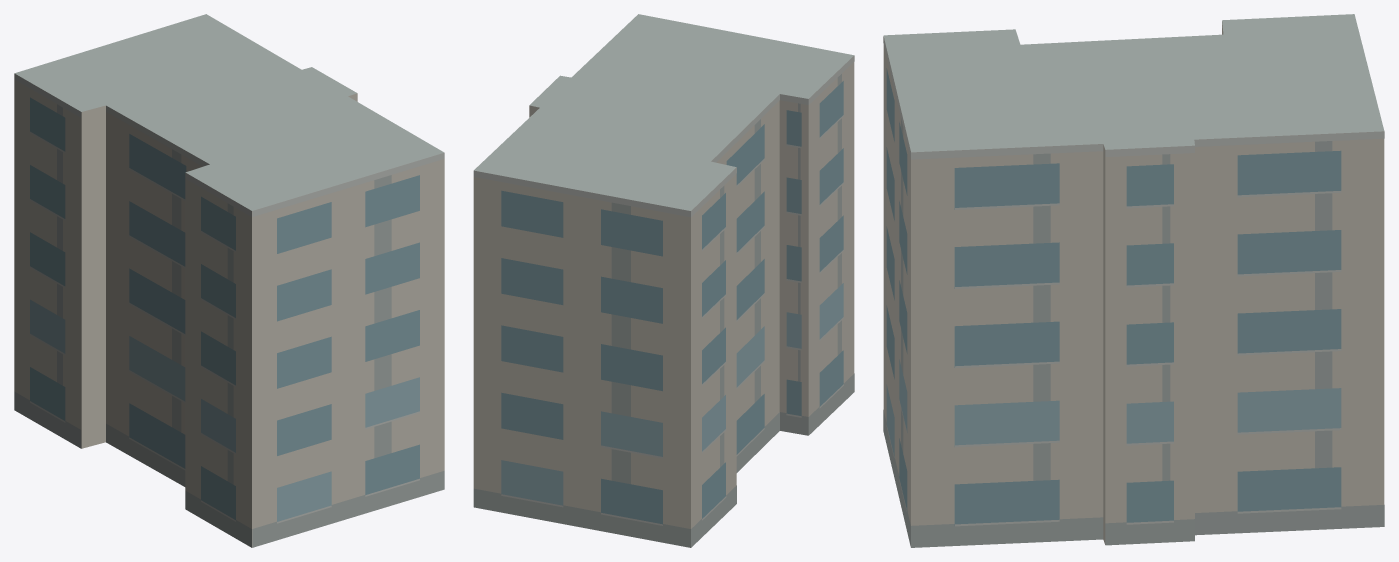
File: survey-upis-32886728.glb
The picture shows the model from 3 angles, left to right: view 1: azimuth 30°, elevation 25°; view 2: azimuth 150°, elevation 25°; view 3: azimuth 270°, elevation 25°; orthographic projection. The views are drawn at different scales.
Parts seen in each view (by area): view 1: survey-upis-32886728.tmp; view 2: survey-upis-32886728.tmp; view 3: survey-upis-32886728.tmp.
Boxes of the visible parts, left/top/right/bottom form: survey-upis-32886728.tmp: left=14, top=14, right=444, bottom=547; survey-upis-32886728.tmp: left=473, top=14, right=854, bottom=547; survey-upis-32886728.tmp: left=883, top=14, right=1384, bottom=547.
Size of the model in its own units: 9.91 by 13.2 by 15.17.
